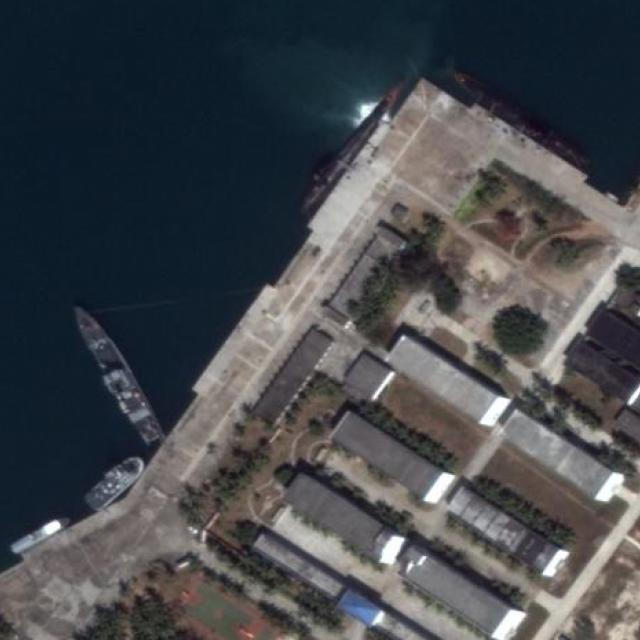Landing: (63, 296, 169, 450)
Other Warship: (81, 449, 150, 516), (6, 511, 74, 557)
Submarine: (297, 73, 409, 212), (447, 68, 595, 171)
